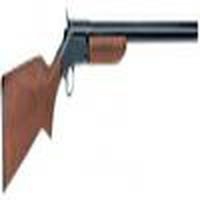gun: (1, 15, 200, 195)
